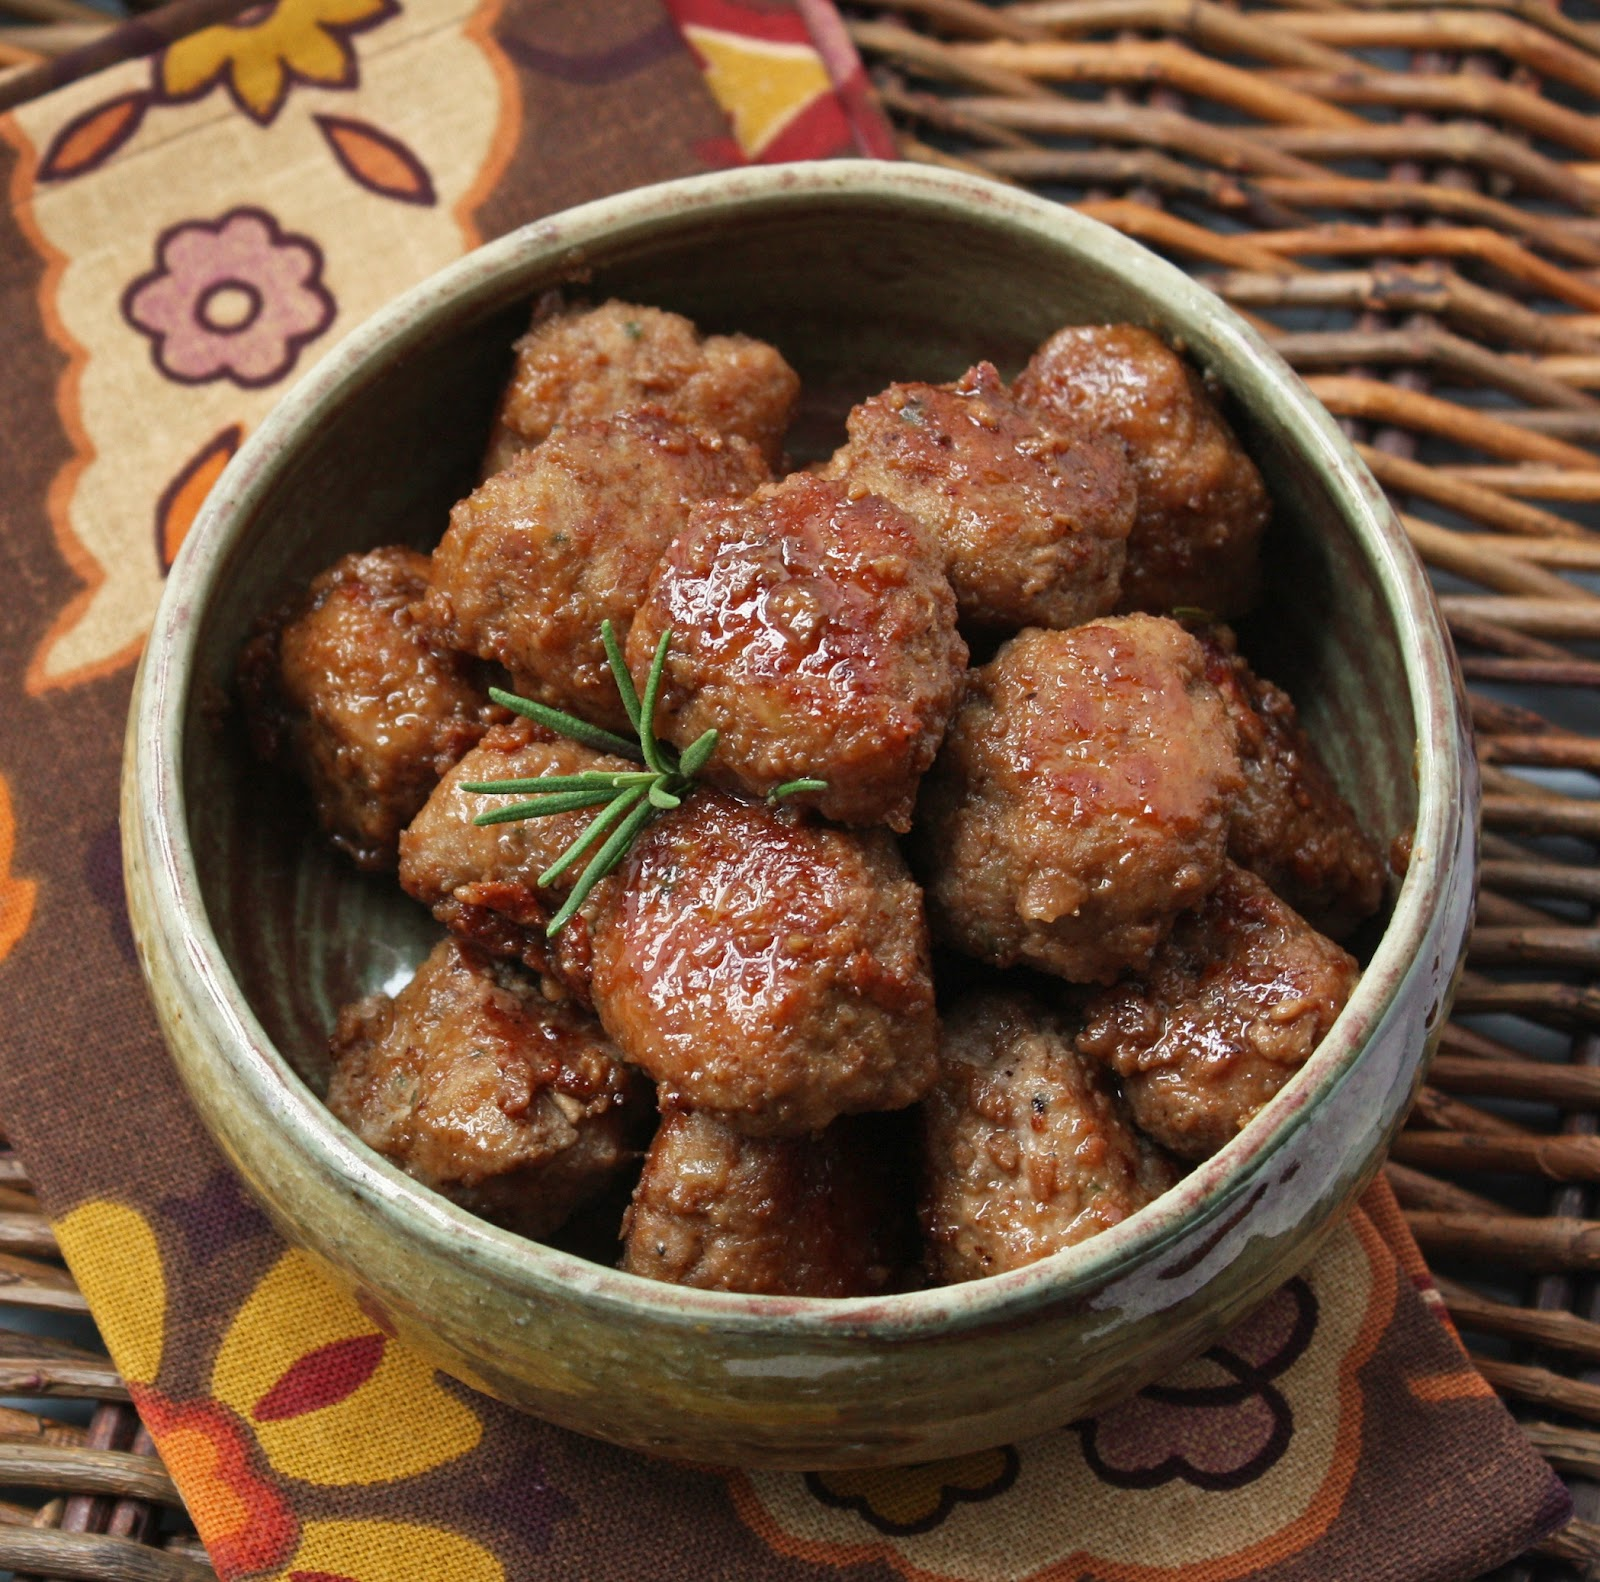meatballs: (586, 808, 938, 1092), (938, 624, 1217, 960), (330, 974, 680, 1229), (655, 491, 938, 792), (446, 410, 723, 701), (880, 1014, 1145, 1268), (839, 385, 1104, 626), (380, 724, 646, 956), (270, 556, 448, 846), (606, 1118, 870, 1305), (506, 316, 794, 472)
